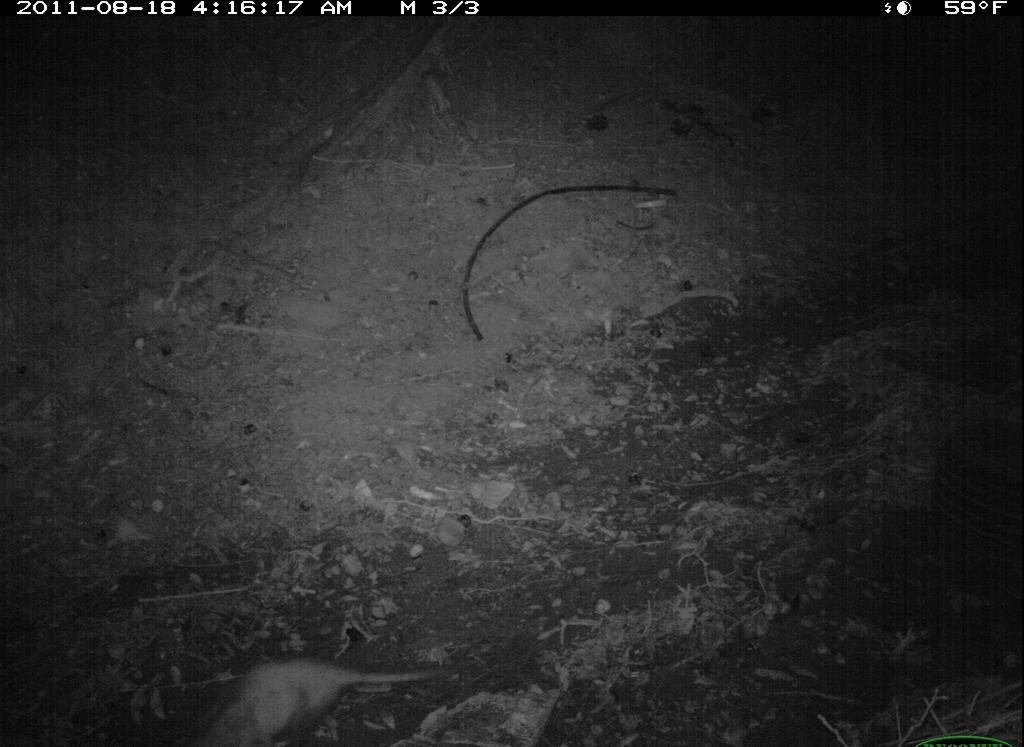opossum: (185, 647, 463, 747)
